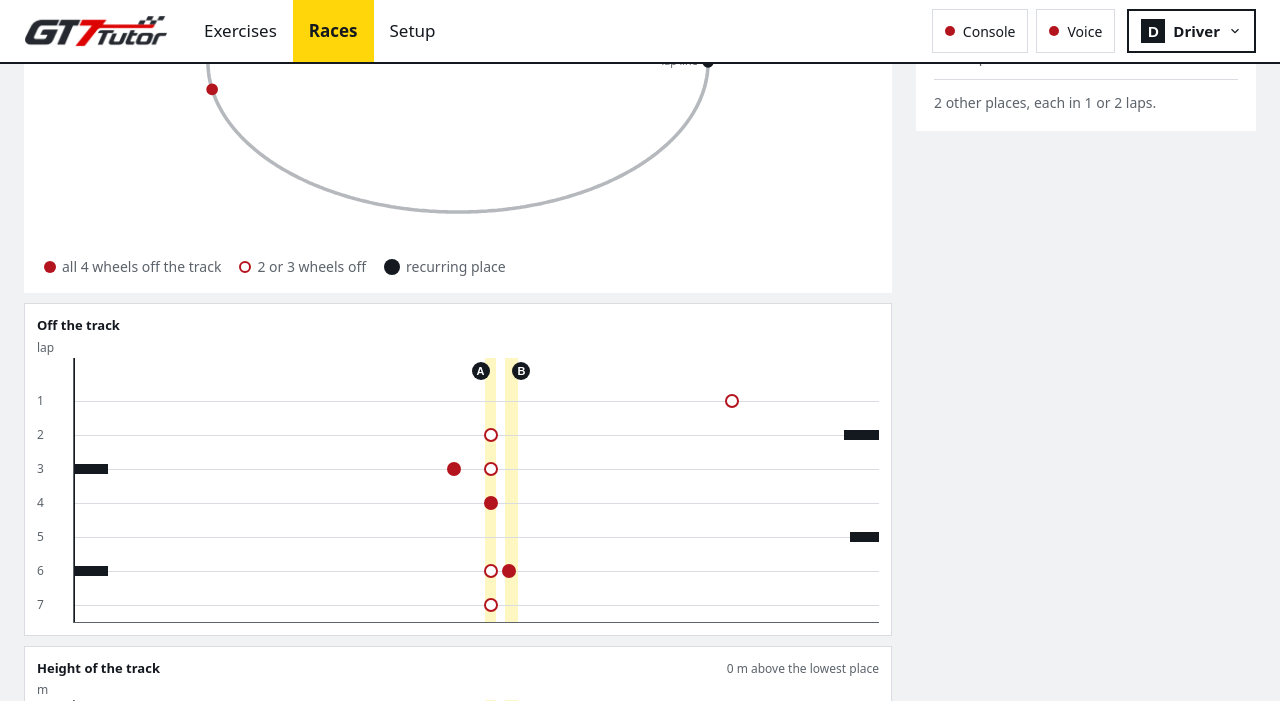
Scenario: race page, off the track tab › moves_to_the_next_moment_with_the_keyboard
(page scrolled)
Click the button named "Lap 1, 5,040 m".
click(732, 400)  # box left=718, top=386, right=746, bottom=414
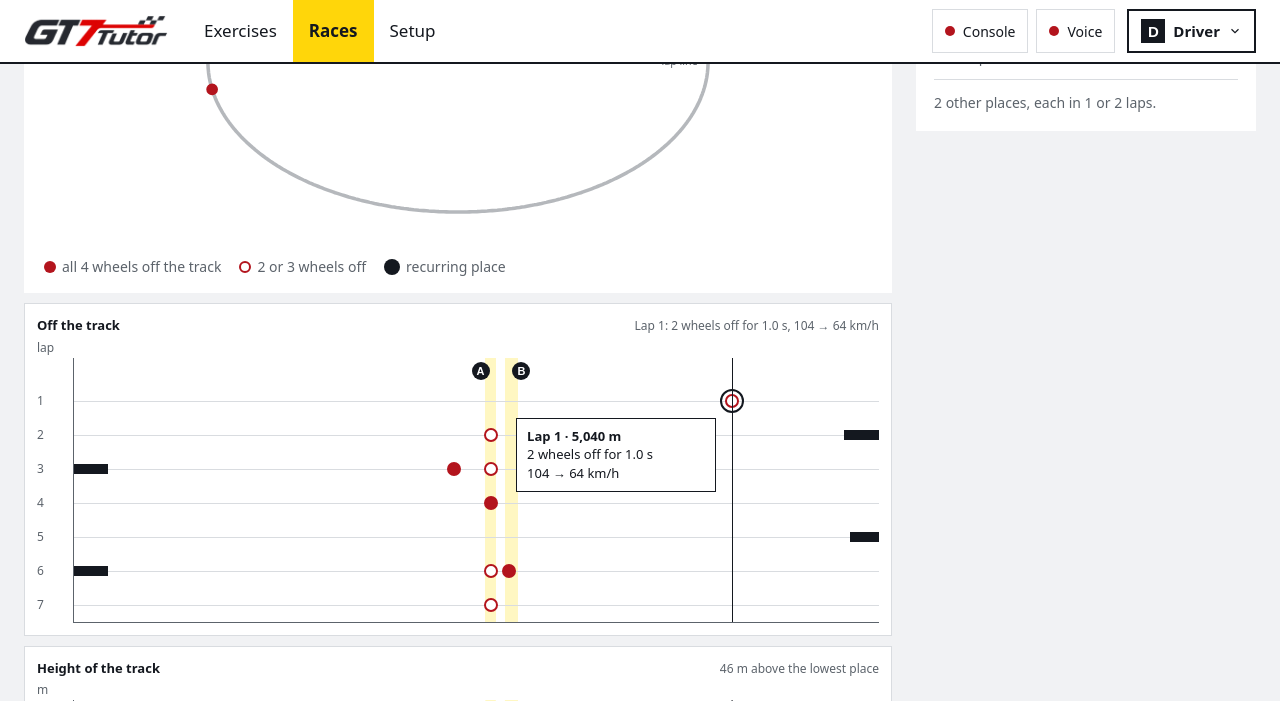
Press ArrowRight in the button named "Lap 1, 5,040 m", box left=718, top=386, right=746, bottom=414
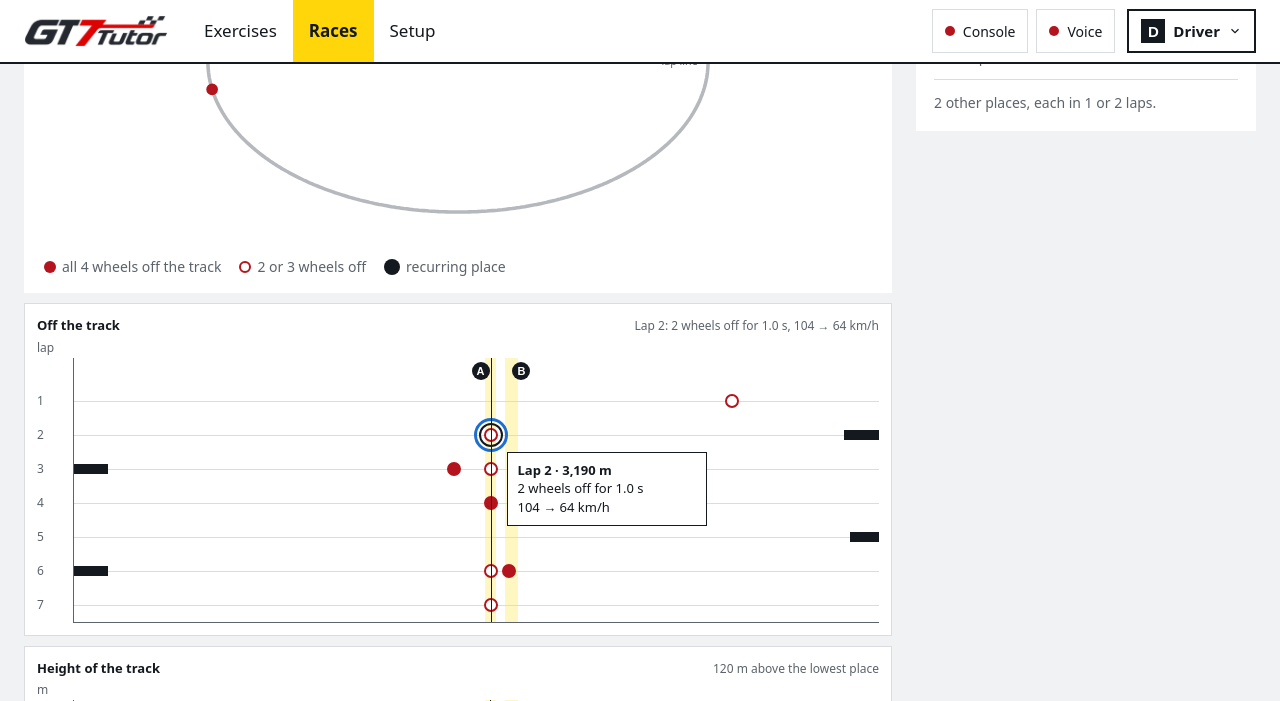
expect the button named "Lap 2, 3,190 m" is pressed: met
Press Escape in the button named "Lap 2, 3,190 m", box left=476, top=420, right=504, bottom=448
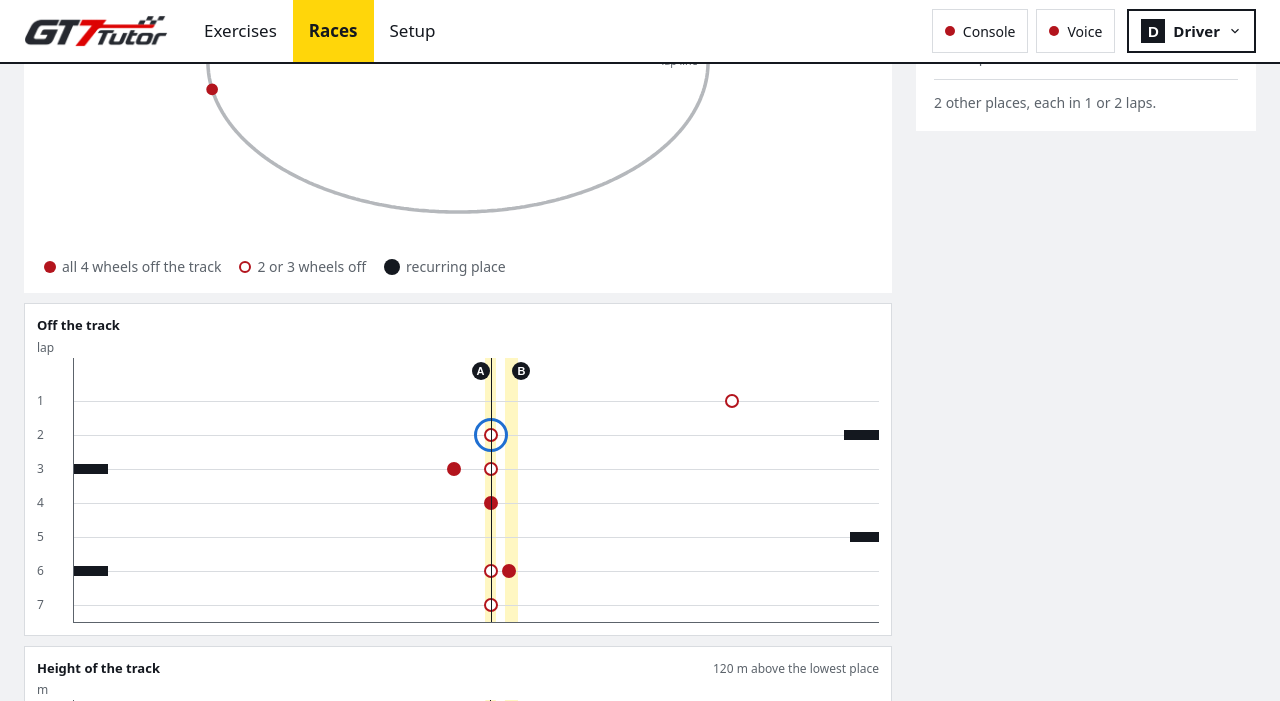
expect the element with class "strip-box" is gone: met
